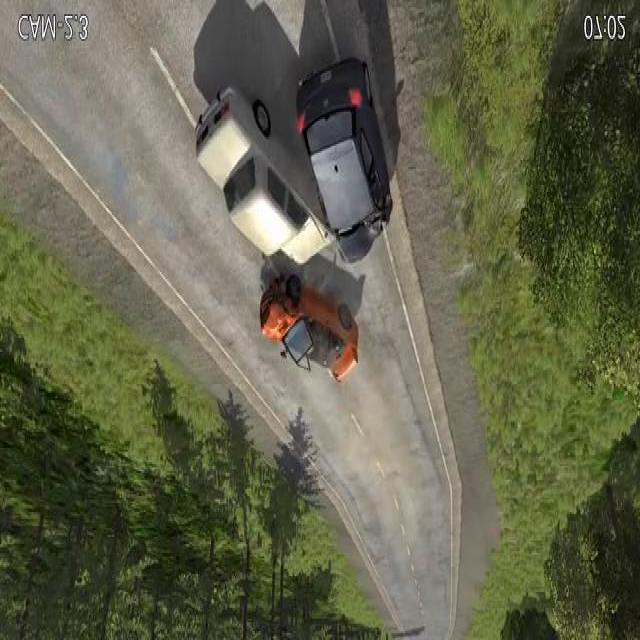moderate: (191, 52, 395, 276)
